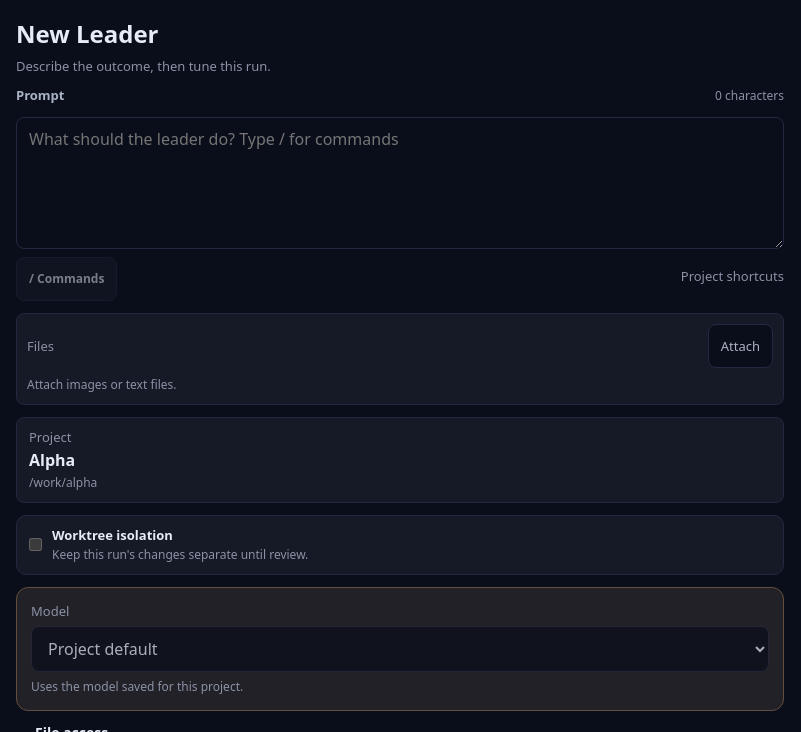
Test: LaunchScreen › re-enables canonical launch after an error
Type "Try launch" into the text box labelled "Prompt" at (400,182), box left=16, top=116, right=784, bottom=248
(page scrolled)
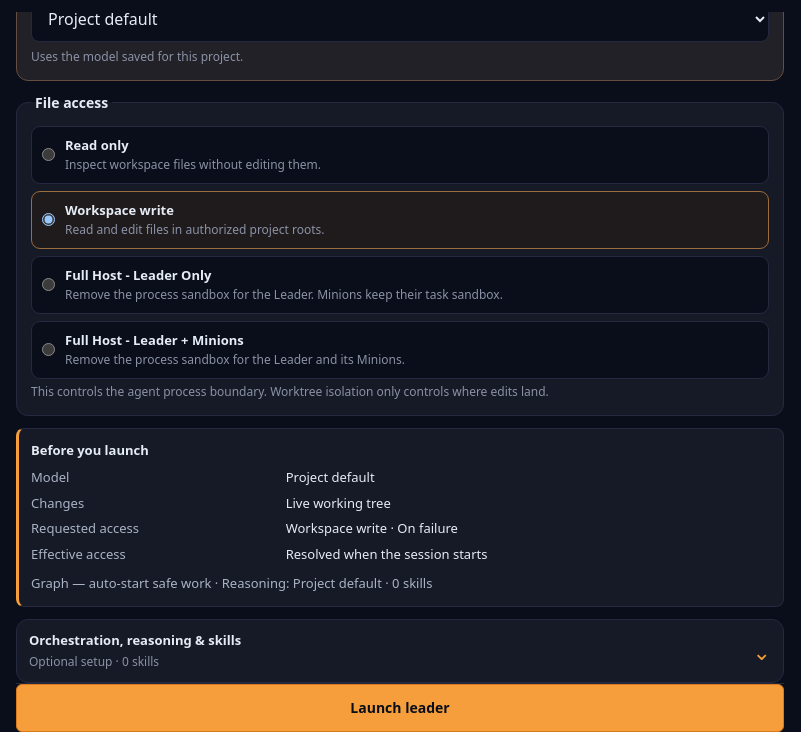
Check: the button "Launch leader" is enabled
Click the button "Launch leader" at (400,708), box left=16, top=684, right=784, bottom=731
(page scrolled)
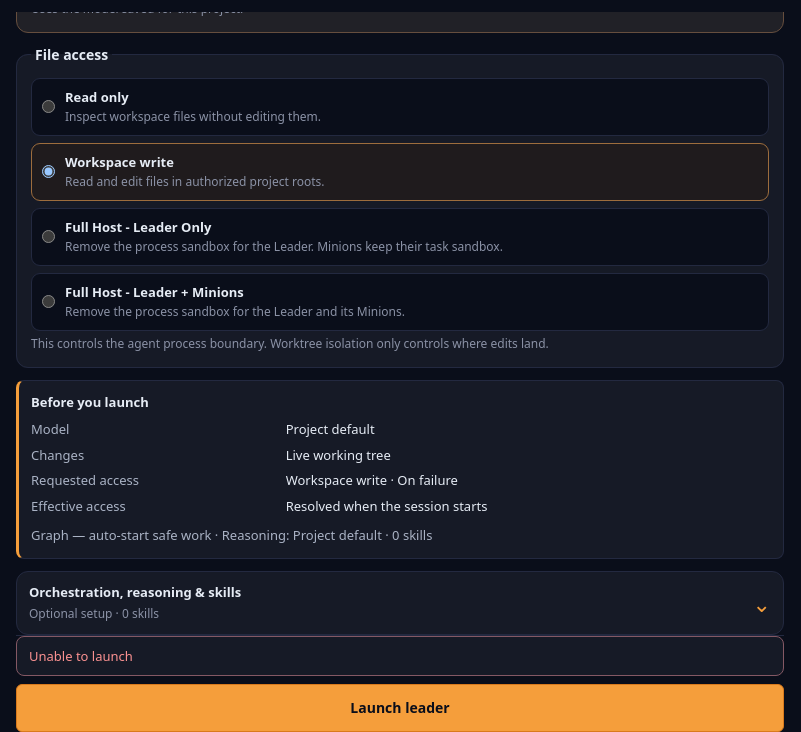
Check: the button "Launch leader" is enabled, box left=16, top=684, right=784, bottom=731
Check: the message reads "Unable to launch", box left=29, top=646, right=133, bottom=664
